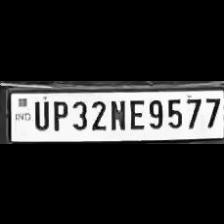2: (88, 96, 106, 130)
3: (69, 96, 87, 130)
5: (164, 95, 182, 129)
7: (201, 94, 221, 128), (183, 95, 201, 129)
9: (146, 95, 164, 129)
E: (126, 95, 144, 131)
N: (107, 96, 125, 130)
P: (50, 97, 68, 131)
U: (30, 97, 50, 131)
